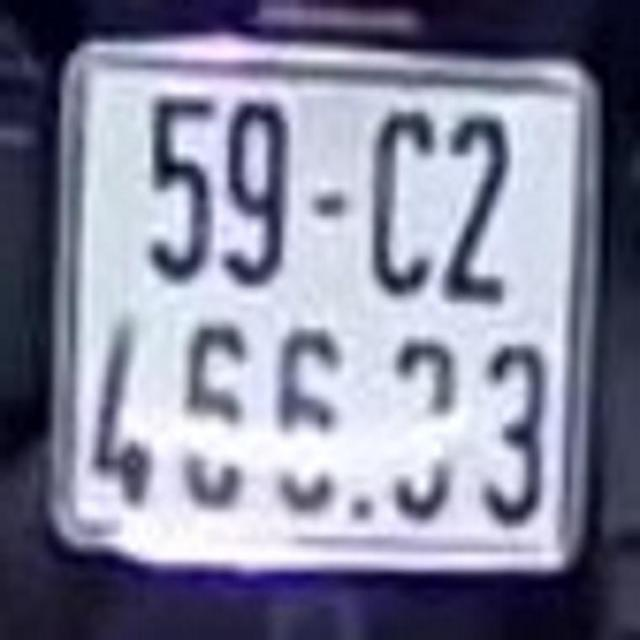2: (446, 85, 526, 318)
3: (382, 311, 469, 547), (479, 309, 556, 546)
4: (88, 296, 164, 519)
5: (132, 63, 218, 292), (179, 297, 261, 521)
6: (276, 299, 344, 536)
9: (222, 86, 300, 310)
C: (368, 82, 437, 311)
